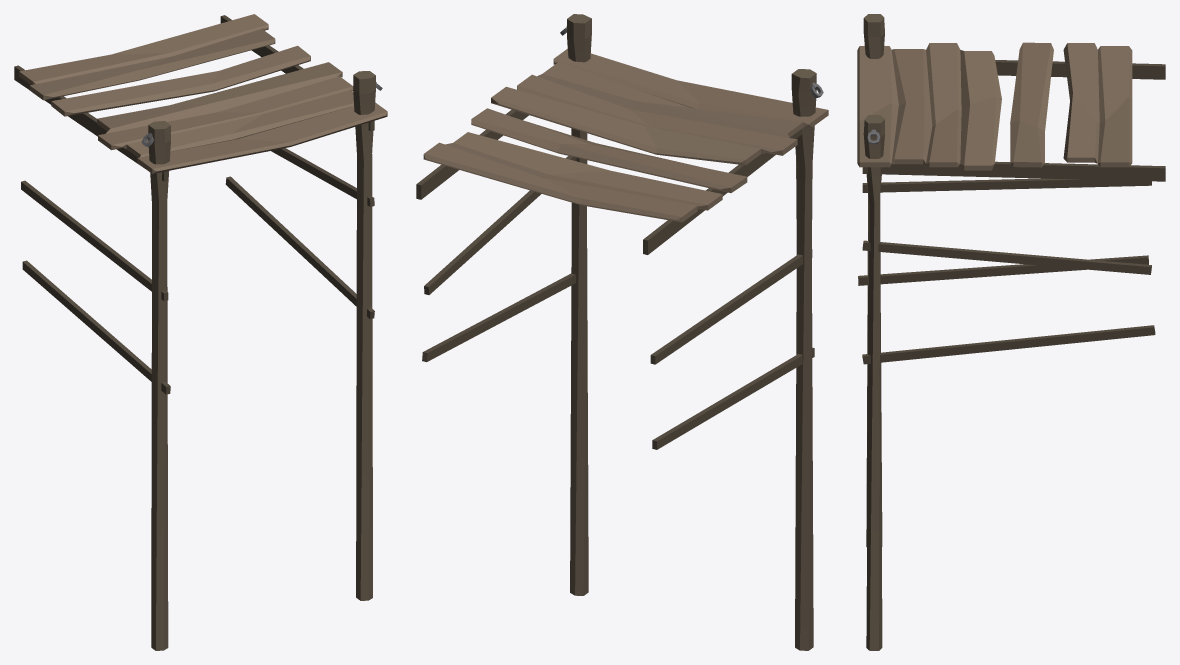
File: SM_Bld_Dock_03.glb
The picture shows the model from 3 angles, left to right: view 1: azimuth 30°, elevation 25°; view 2: azimuth 150°, elevation 25°; view 3: azimuth 270°, elevation 25°; orthographic projection. The views are drawn at different scales.
Visible parts, largest first — view 1: SM_Bld_Dock_03; view 2: SM_Bld_Dock_03; view 3: SM_Bld_Dock_03.
Part boxes in pixels (left/top/right/bottom): SM_Bld_Dock_03: left=14, top=14, right=387, bottom=650; SM_Bld_Dock_03: left=416, top=14, right=828, bottom=650; SM_Bld_Dock_03: left=857, top=14, right=1165, bottom=650.
Size of the model in its own units: 0.0382 by 0.0767 by 0.0406.
1 material, 1 textured.
